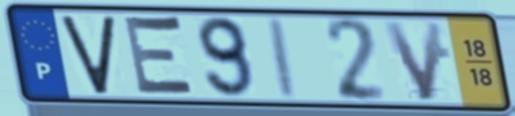2: (323, 12, 391, 108)
9: (193, 13, 259, 102)
E: (121, 11, 200, 101)
I: (268, 14, 302, 103)
V: (379, 19, 447, 104), (57, 13, 117, 97)
